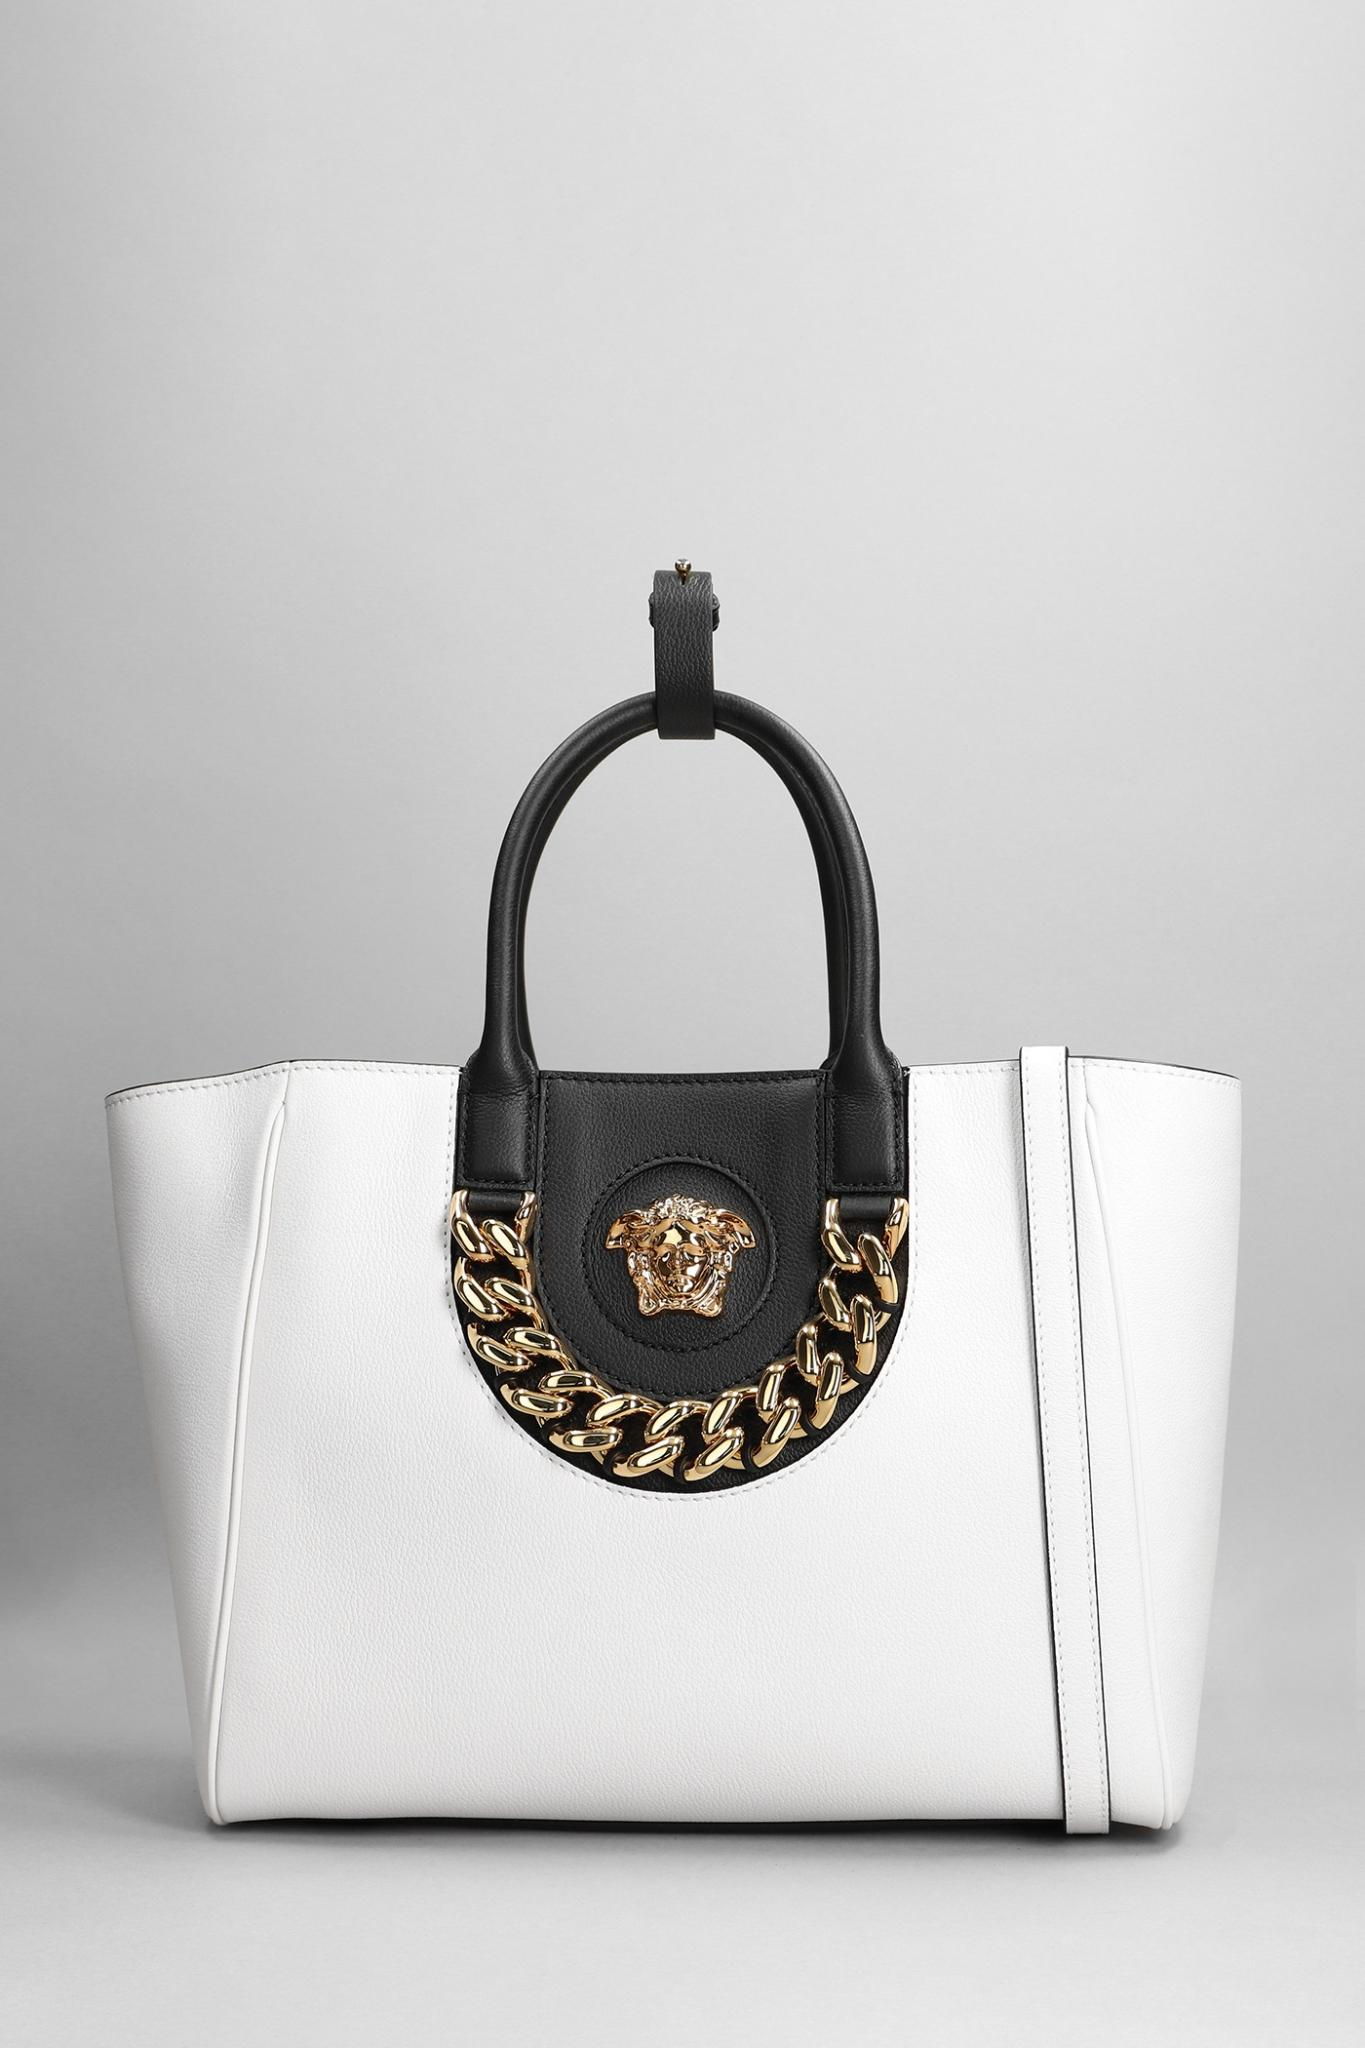VERSACE: (576, 1148, 786, 1357)
